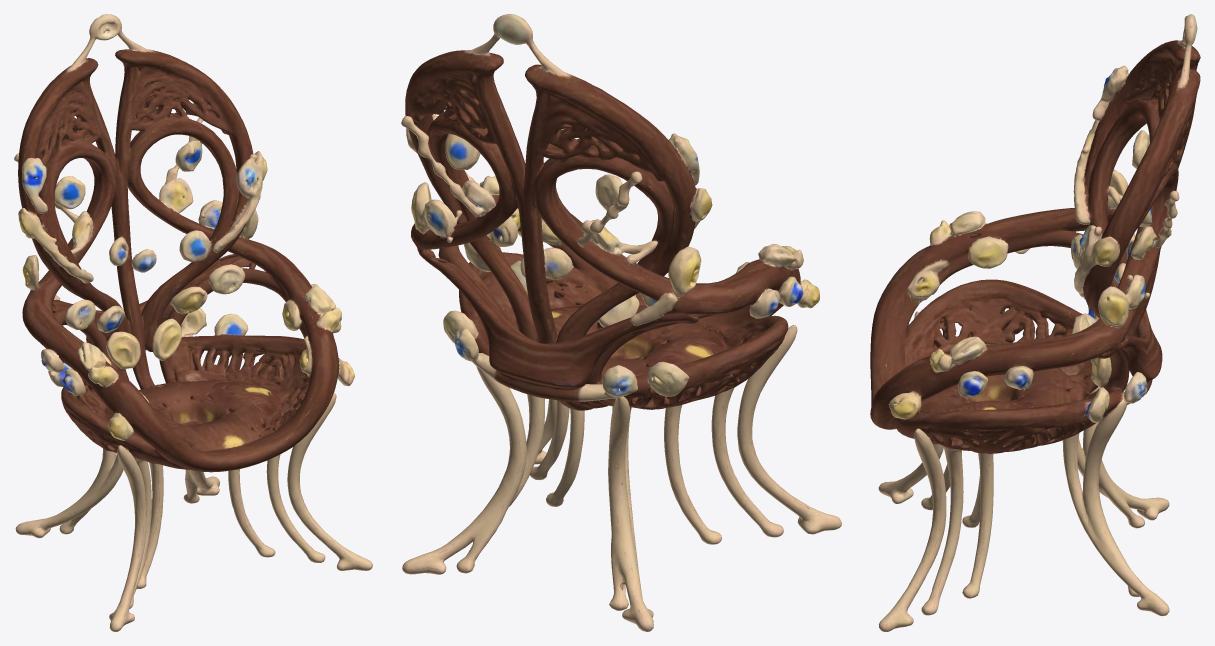
Rendered from trellis_carved_chair.glb.
3 renders of one model, left to right at view 1: azimuth 30°, elevation 25°; view 2: azimuth 150°, elevation 25°; view 3: azimuth 270°, elevation 25°, orthographic. The views are drawn at different scales.
Parts seen in each view (by area): view 1: world; view 2: world; view 3: world.
Part boxes in pixels (left/top/right/bottom): world: left=14, top=14, right=372, bottom=631; world: left=401, top=14, right=841, bottom=631; world: left=870, top=14, right=1200, bottom=631.
Bounding box in the file's own units: 0.8 × 1.34 × 0.7328.
1 material, 1 textured.
